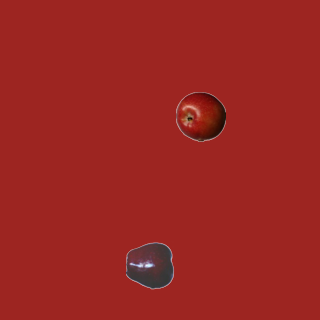Apple Braeburn: (175, 91, 225, 141)
Apple Red Delicious: (125, 240, 175, 290)
